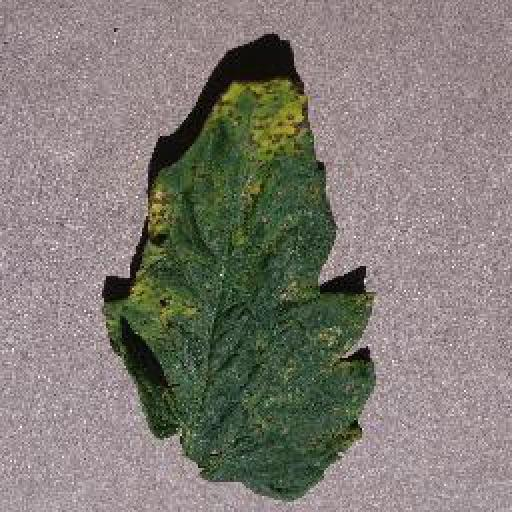Septoria: (100, 76, 382, 500)
